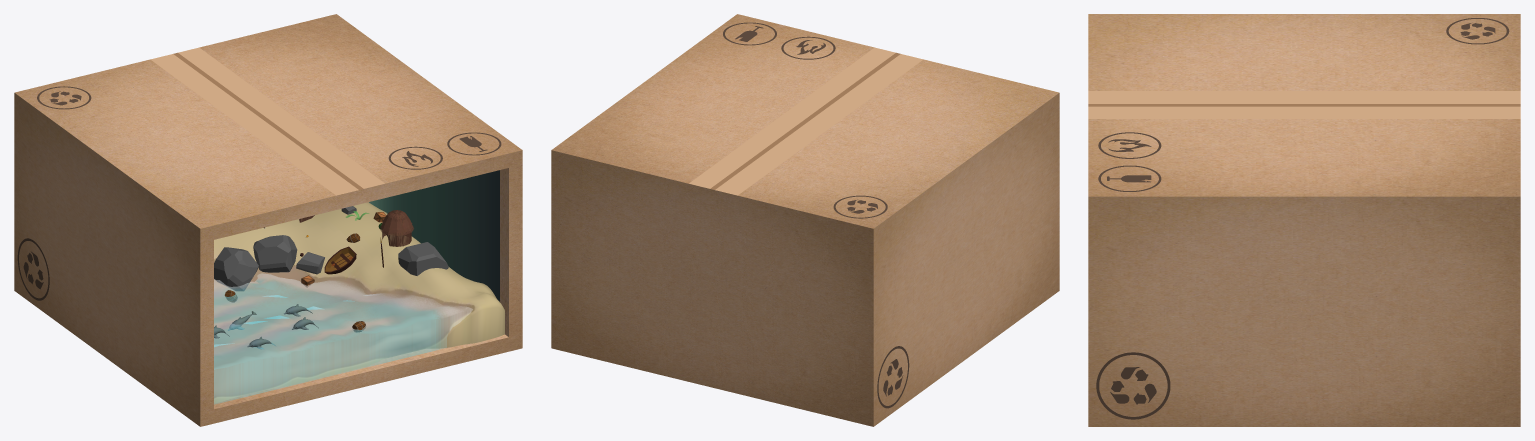
Rendered from caja_beach.glb.
3 views of the same model, side by side, from view 1: azimuth 30°, elevation 25°; view 2: azimuth 150°, elevation 25°; view 3: azimuth 270°, elevation 25° (orthographic). The views are drawn at different scales.
Parts seen in each view (by area): view 1: Box, spiaggia, mare, sass05, sasso4, sasso3, Cylinder.003, Cube.001; view 2: Box; view 3: Box.
Part boxes in pixels (<box>): Box: <box>14,14,522,426</box>; spiaggia: <box>214,202,504,403</box>; mare: <box>214,273,472,404</box>; sass05: <box>214,247,258,291</box>; sasso4: <box>253,235,297,272</box>; sasso3: <box>398,242,448,275</box>; Cylinder.003: <box>380,210,413,246</box>; Cube.001: <box>324,246,356,274</box>; Box: <box>551,14,1059,426</box>; Box: <box>1088,14,1520,426</box>.
Size of what is drawn, in the model's own units: 2 by 1.18 by 2.
16 materials, 15 textured.
